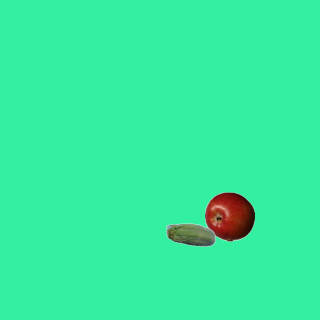Apple Braeburn: (204, 191, 254, 241)
Corn Husk: (165, 211, 215, 261)
